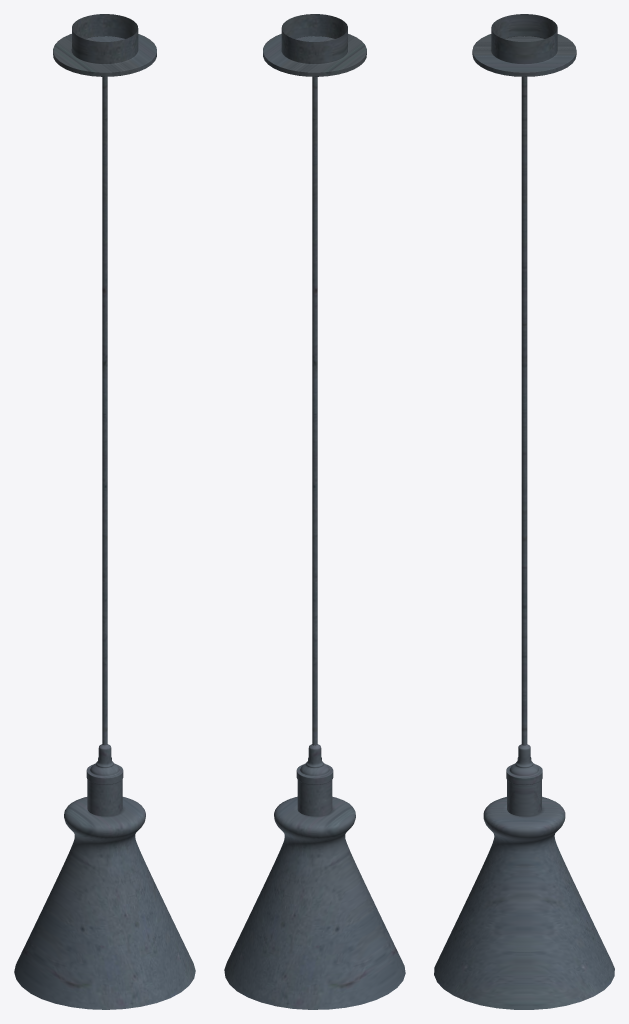
The model's file is lampara2.obj.
3 renders of one model, left to right at view 1: azimuth 30°, elevation 25°; view 2: azimuth 150°, elevation 25°; view 3: azimuth 270°, elevation 25°, orthographic.
Parts seen in each view (by area): view 1: Mesh11; view 2: Mesh11; view 3: Mesh11.
Boxes of the visible parts, x1,y1,x2,y2 form: Mesh11: (14,14,195,1009); Mesh11: (224,14,405,1009); Mesh11: (434,14,614,1009).
Bounding box in the file's own units: 0.1997 × 1.15 × 0.1997.
1 material, 1 textured.
